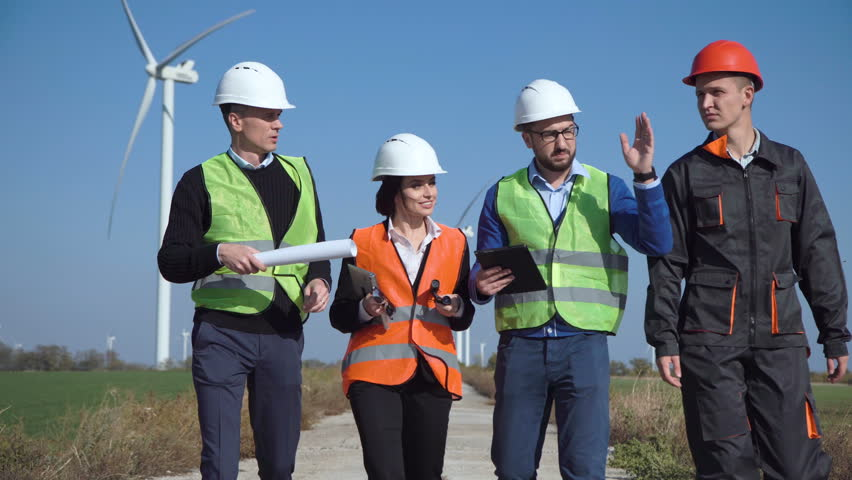Safety Helmet: (676, 25, 790, 168), (359, 117, 455, 248), (202, 49, 297, 172), (505, 67, 596, 186)
